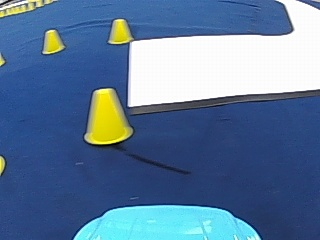cone: (83, 87, 132, 144), (107, 18, 133, 44), (41, 29, 64, 54)
